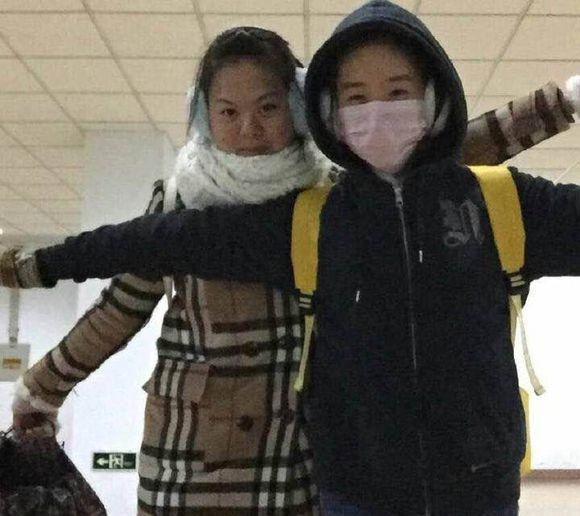NONE: (207, 88, 300, 181)
OK: (342, 73, 436, 167)
